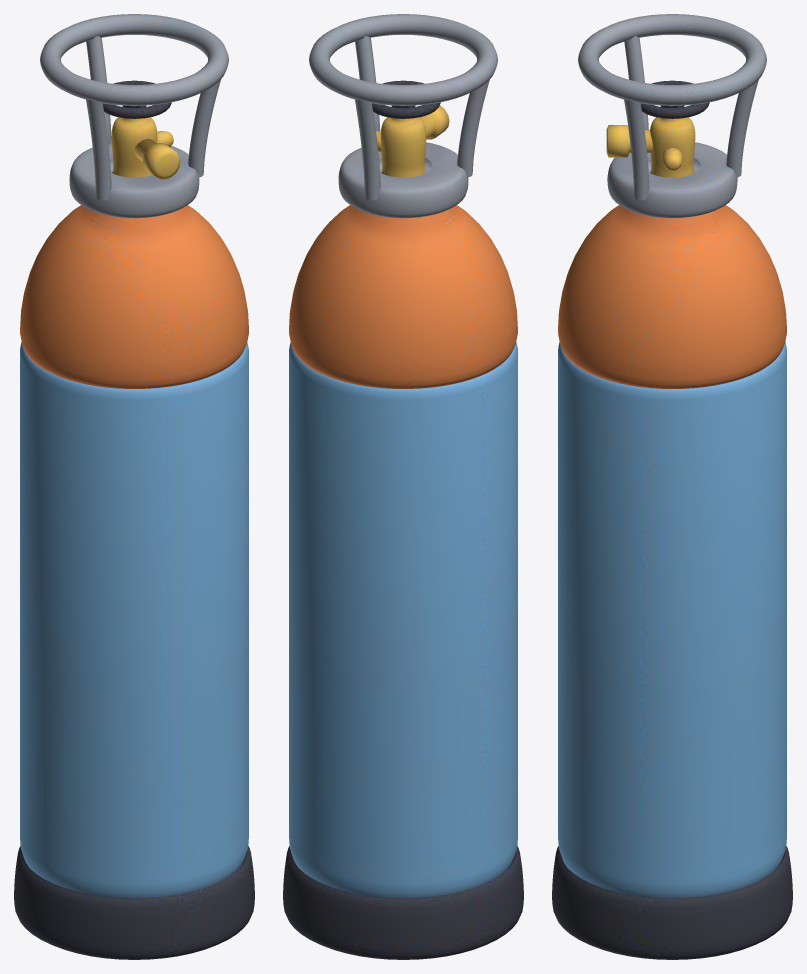
Rendered from gas-cylinder.glb.
3 renders of one model, left to right at view 1: azimuth 30°, elevation 25°; view 2: azimuth 150°, elevation 25°; view 3: azimuth 270°, elevation 25°, orthographic.
Visible parts, largest first — view 1: gas-cylinder_body; view 2: gas-cylinder_body; view 3: gas-cylinder_body.
Boxes of the visible parts, x1,y1,x2,y2 form: gas-cylinder_body: (14, 14, 254, 959); gas-cylinder_body: (283, 14, 523, 959); gas-cylinder_body: (552, 14, 792, 959).
Size of the model in its own units: 0.2522 by 0.996 by 0.2522.
1 material, 1 textured.
